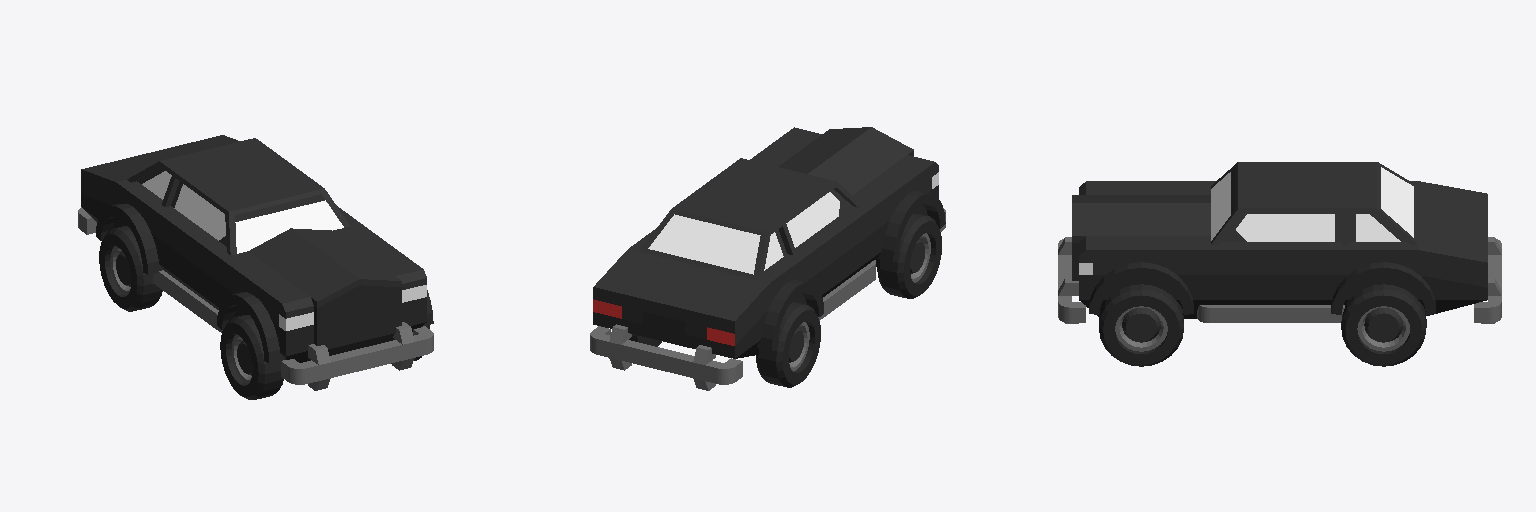
File: Car4.obj
3 renders of one model, left to right at view 1: azimuth 30°, elevation 25°; view 2: azimuth 150°, elevation 25°; view 3: azimuth 270°, elevation 25°, orthographic.
Parts seen in each view (by area): view 1: mergedBlocks; view 2: mergedBlocks; view 3: mergedBlocks.
Boxes of the visible parts, x1,y1,x2,y2 form: mergedBlocks: [78, 135, 433, 399]; mergedBlocks: [590, 127, 945, 390]; mergedBlocks: [1058, 162, 1501, 366].
Bounding box in the file's own units: 1.43 × 1.13 × 3.2.